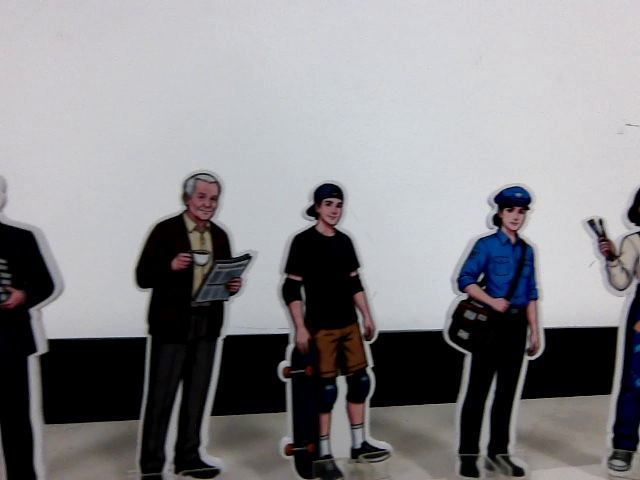community_person: (119, 162, 257, 480), (268, 172, 406, 480), (438, 173, 558, 480), (0, 141, 76, 477), (578, 156, 640, 480)
